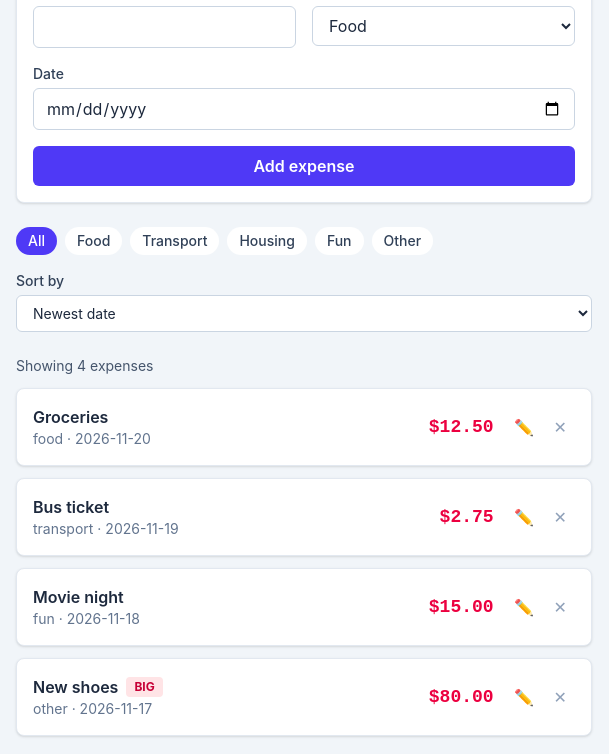
Scenario: App › only lets one expense be edited at a time
The width and height of the screenshot is (609, 754).
(page scrolled)
Click the button named "Edit Groceries". click: (524, 427)
box: [506,411,542,443]
(page scrolled)
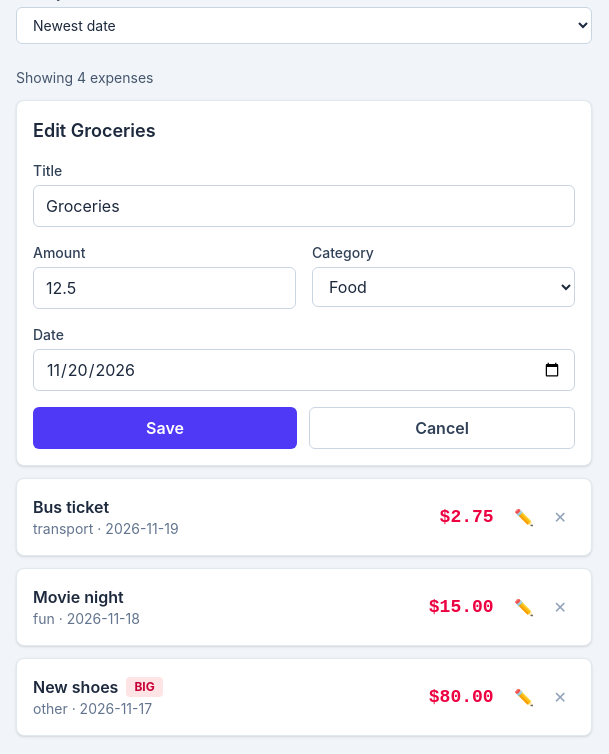
Click the button named "Edit Bus ticket". click: (524, 517)
box: [506,501,542,533]
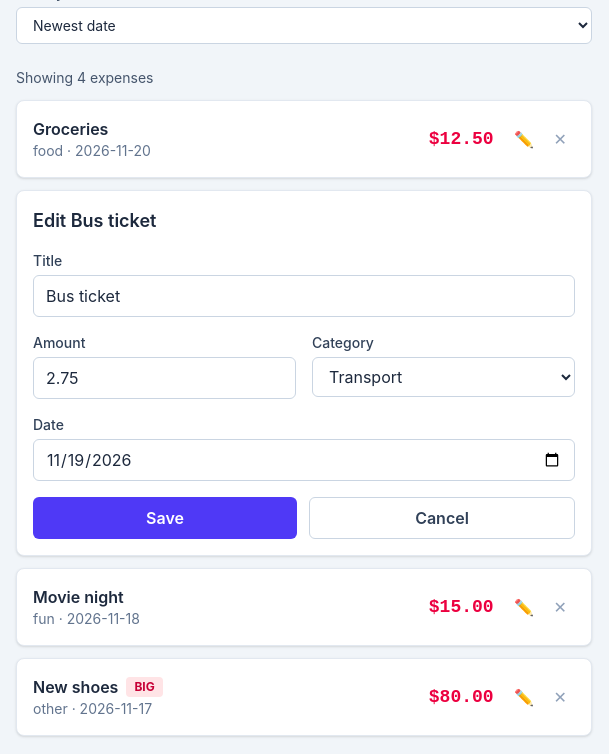
Expected: the heading "Edit Groceries" is gone
Expected: the form "Edit Bus ticket" is shown, [16,190,592,556]
